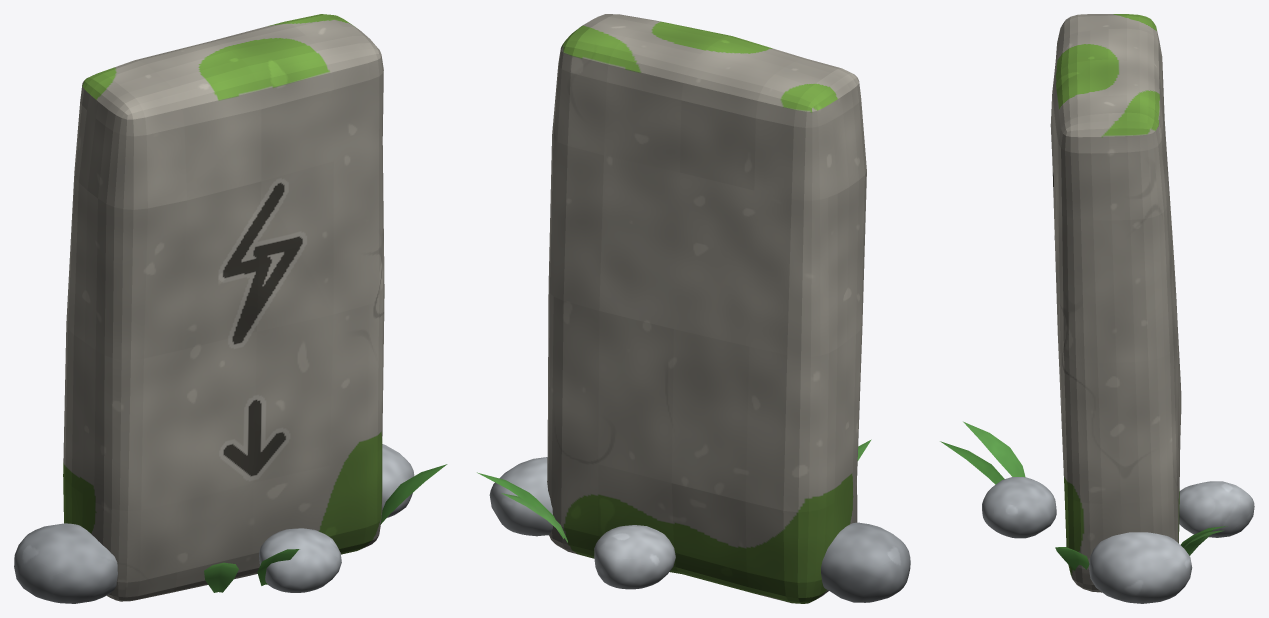
Rendered from rune_stone_c.glb.
3 renders of one model, left to right at view 1: azimuth 30°, elevation 25°; view 2: azimuth 150°, elevation 25°; view 3: azimuth 270°, elevation 25°, orthographic. The views are drawn at different scales.
Parts seen in each view (by area): view 1: RuneStoneC; view 2: RuneStoneC; view 3: RuneStoneC.
Part boxes in pixels (x1,y1,x2,y2): RuneStoneC: (14, 14, 447, 603); RuneStoneC: (477, 14, 910, 603); RuneStoneC: (940, 14, 1254, 603).
Size of the model in its own units: 1.3 by 1.62 by 0.9642.
Materials: 1 (1 with a texture image).
